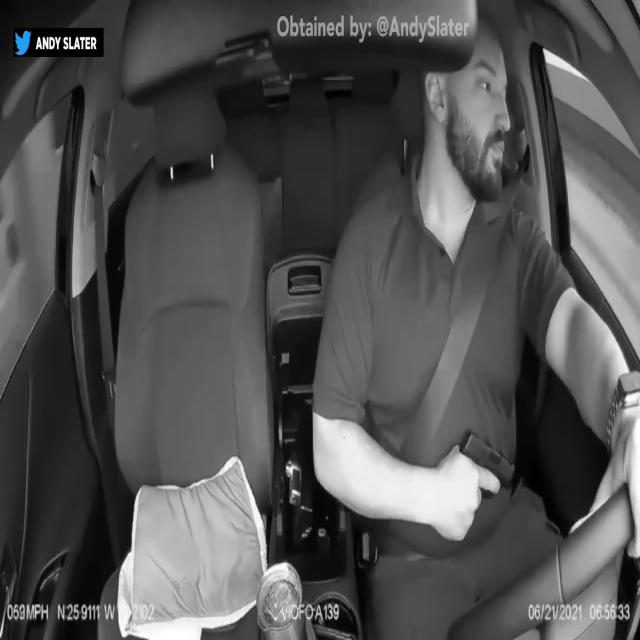senjata_api: (462, 429, 515, 499)
